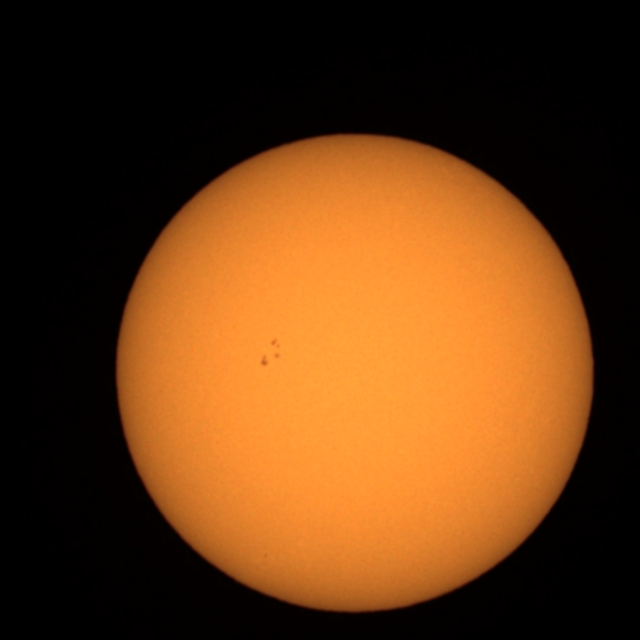sunspot: (259, 338, 283, 368)
